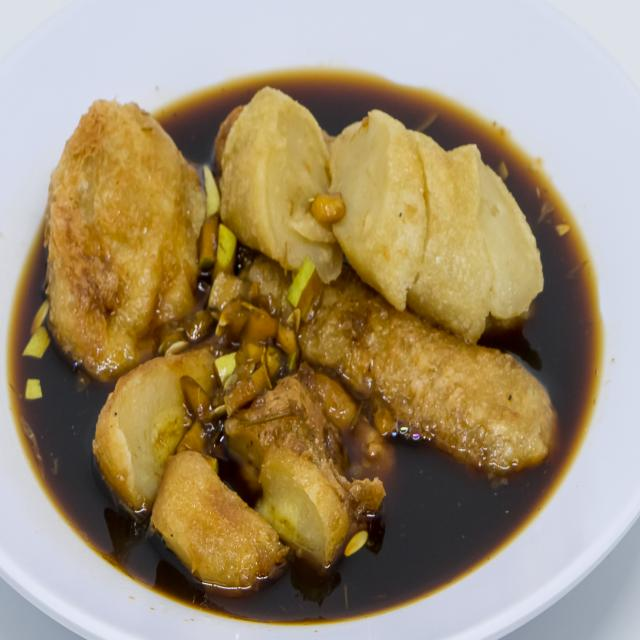Pempek-Palembang: (43, 62, 564, 602)
